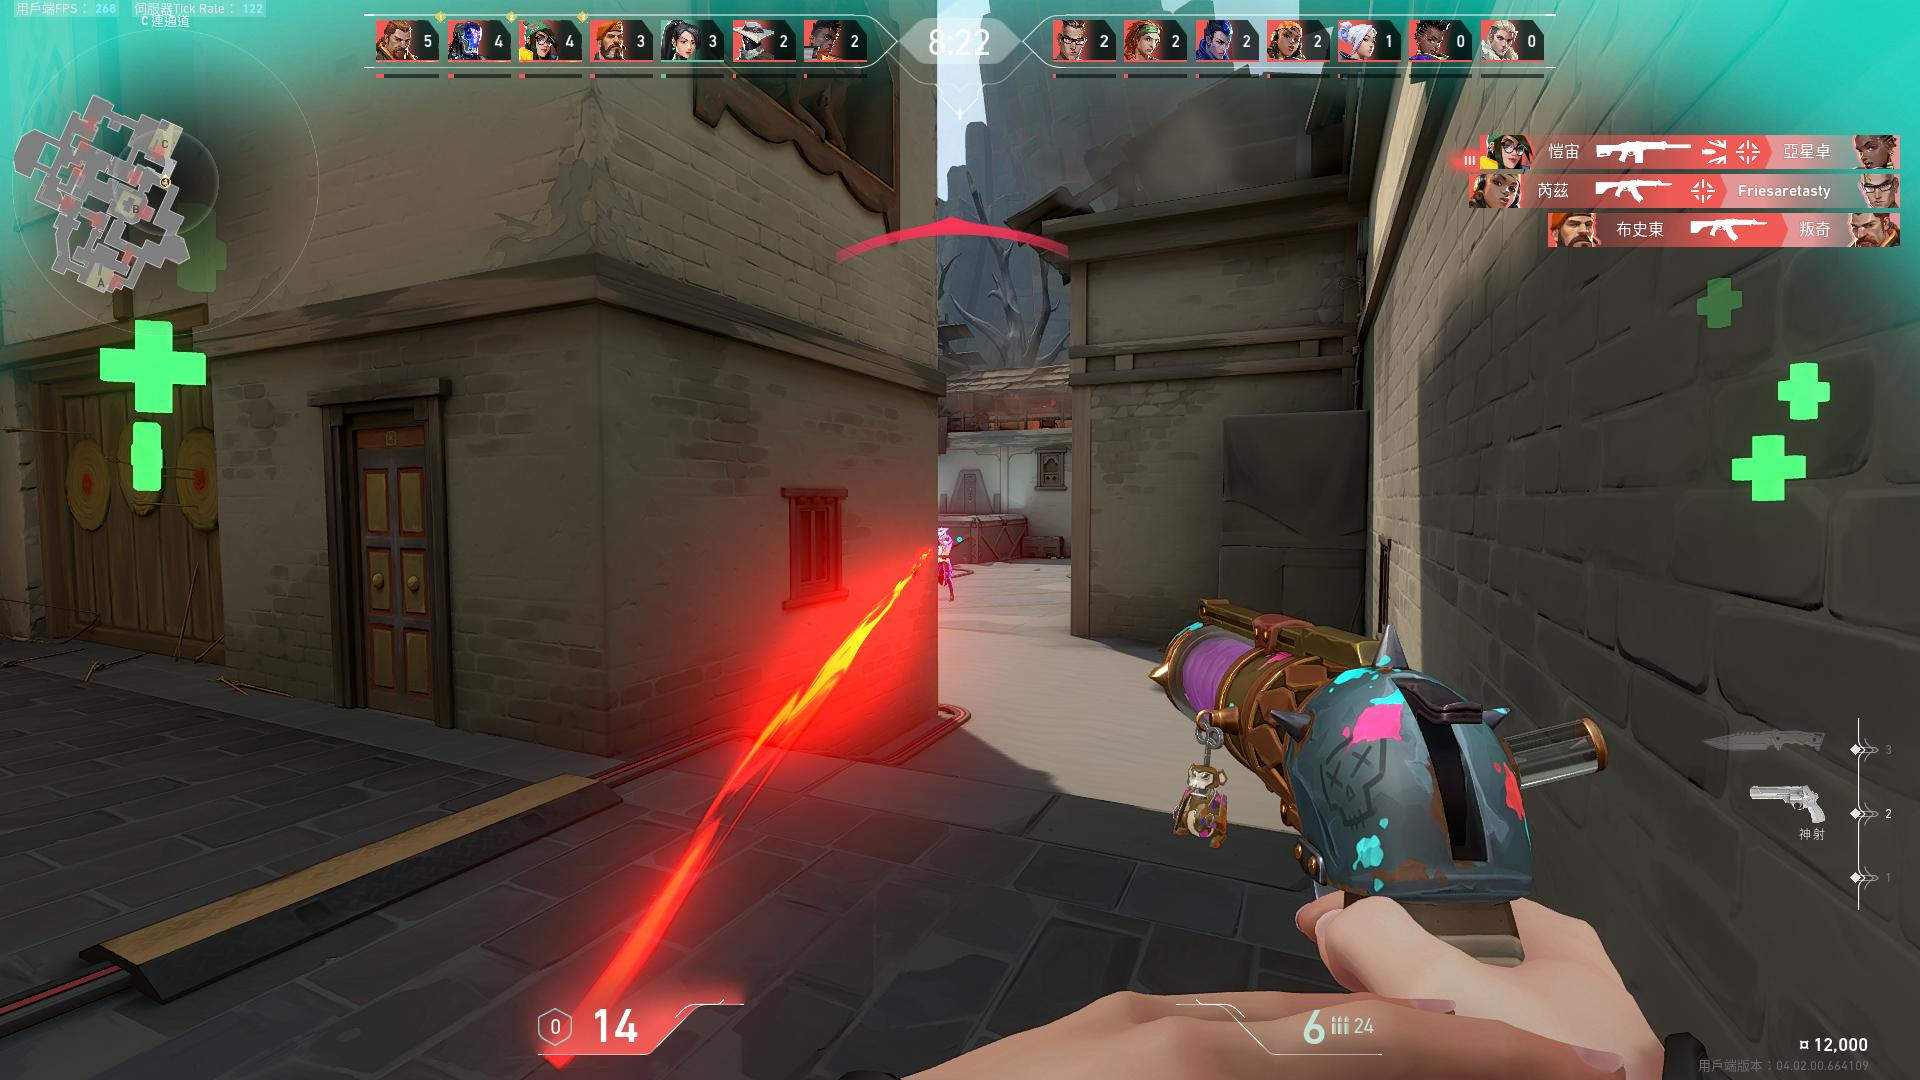enemyBody: (938, 538, 948, 558)
enemyHead: (938, 529, 945, 537)
